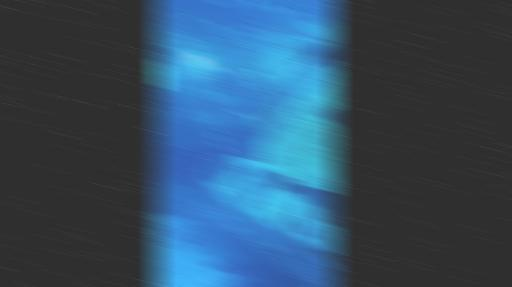Fish: (289, 40, 337, 72), (260, 95, 297, 122), (313, 188, 338, 224), (272, 173, 301, 192), (152, 43, 179, 58), (312, 248, 337, 263), (272, 213, 289, 226), (248, 71, 267, 81), (244, 0, 259, 10), (255, 117, 266, 130), (300, 224, 312, 235), (203, 22, 222, 27), (243, 88, 252, 97), (254, 58, 264, 66), (174, 33, 189, 38), (186, 16, 203, 20), (277, 8, 286, 14), (196, 0, 213, 2)
